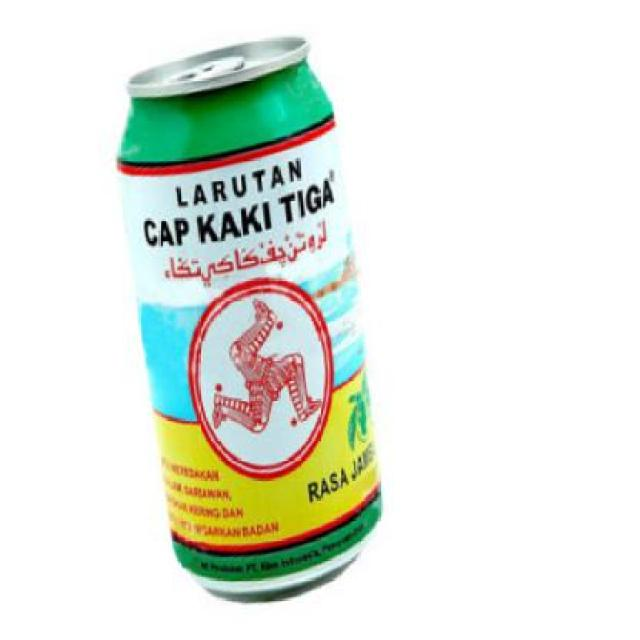Metal: (116, 34, 382, 605)
